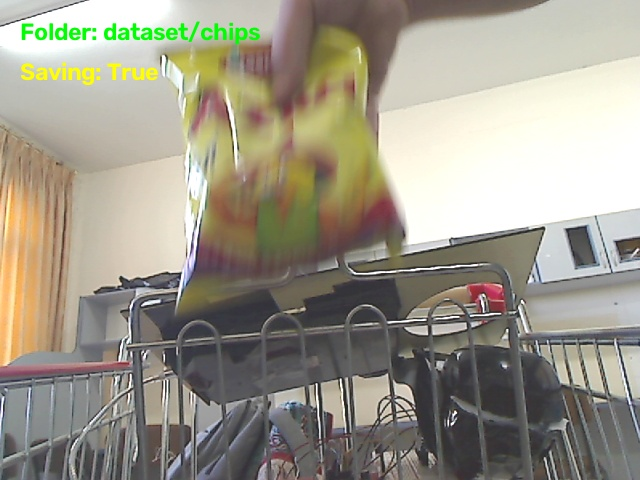chips: (162, 27, 403, 314)
